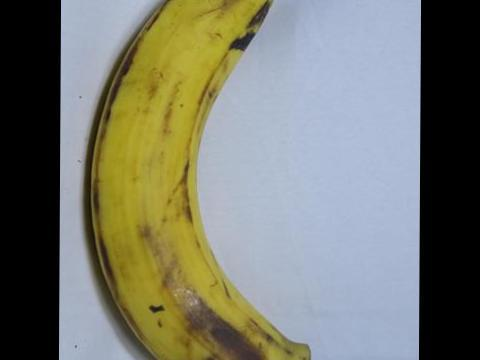overripe: (74, 0, 320, 359)
